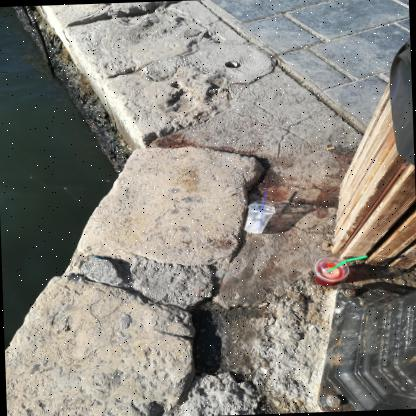Cigarette: (326, 147, 335, 150), (304, 46, 310, 49), (331, 246, 333, 253)
Disposable plastic cup: (244, 200, 276, 234), (313, 257, 350, 286)
Plastic lid: (314, 257, 350, 282), (248, 200, 276, 211)
Plastic straw: (327, 255, 368, 273), (260, 189, 267, 228)
